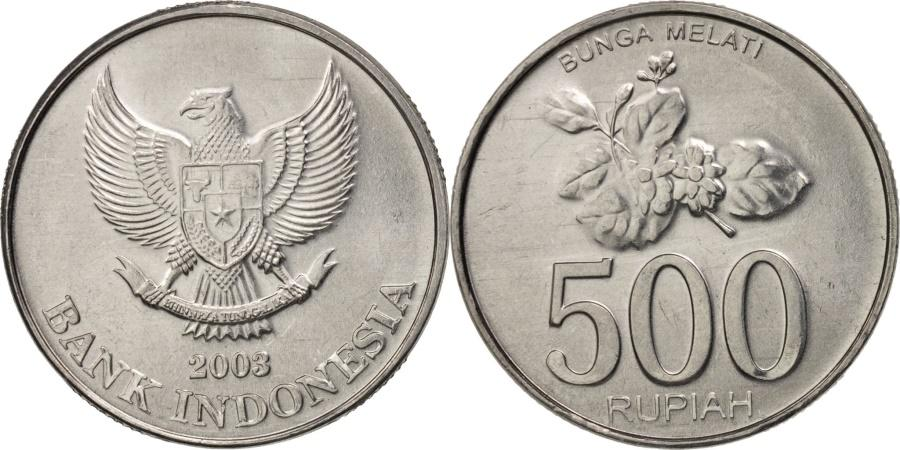coin_500_e2003: (448, 0, 900, 450), (0, 0, 450, 450)
